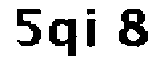5: (11, 5, 46, 49)
8: (112, 6, 153, 52)
i: (82, 7, 98, 53)
q: (49, 16, 78, 60)
